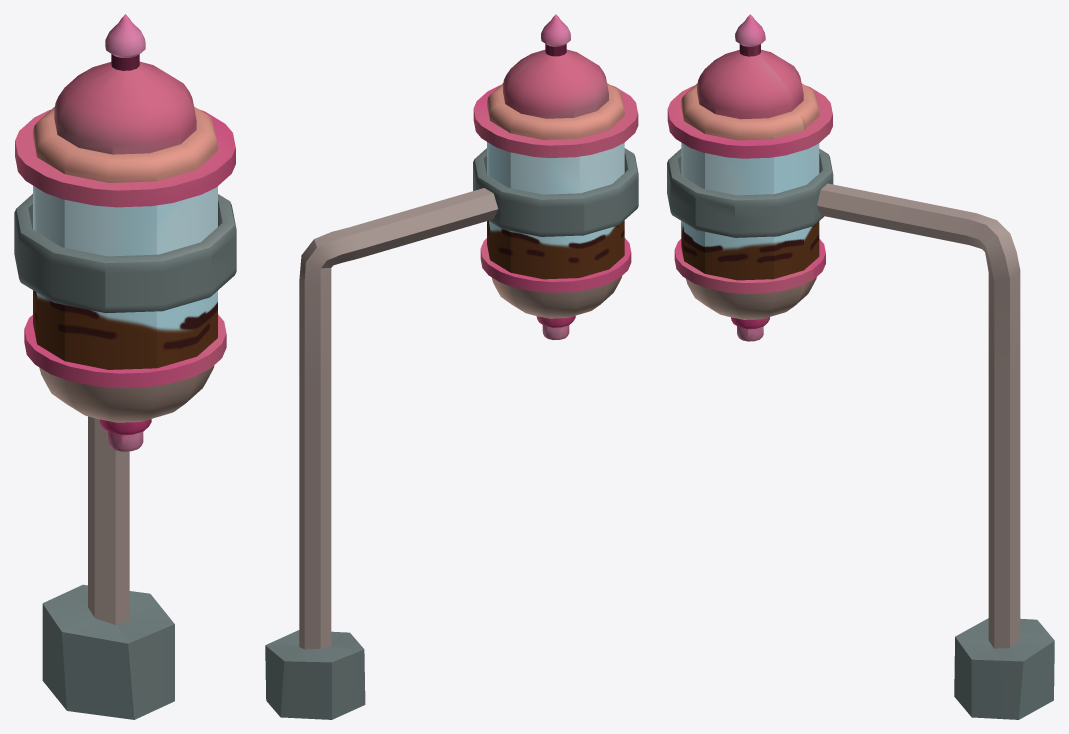
Rendered from qlazur aparat.fbx.
The picture shows the model from 3 angles, left to right: view 1: azimuth 30°, elevation 25°; view 2: azimuth 150°, elevation 25°; view 3: azimuth 270°, elevation 25°; orthographic projection. The views are drawn at different scales.
Parts seen in each view (by area): view 1: qlazur aparat; view 2: qlazur aparat; view 3: qlazur aparat.
Boxes of the visible parts, x1,y1,x2,y2 form: qlazur aparat: [14, 14, 236, 719]; qlazur aparat: [265, 14, 638, 719]; qlazur aparat: [667, 14, 1054, 719].
Size of the model in its own units: 4.24 by 11.18 by 6.22.
Materials: 1 (1 with a texture image).
